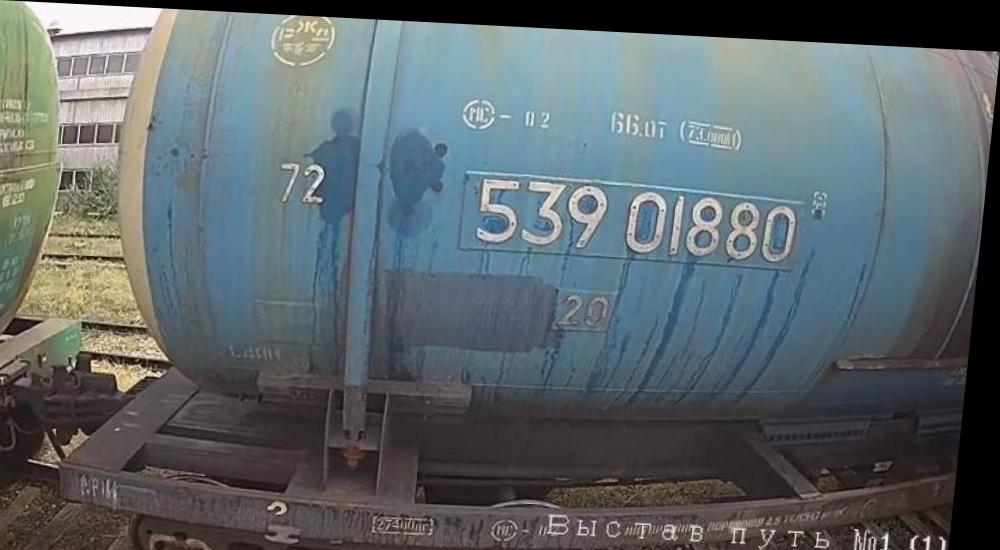Wagon-number: (472, 170, 806, 260)
